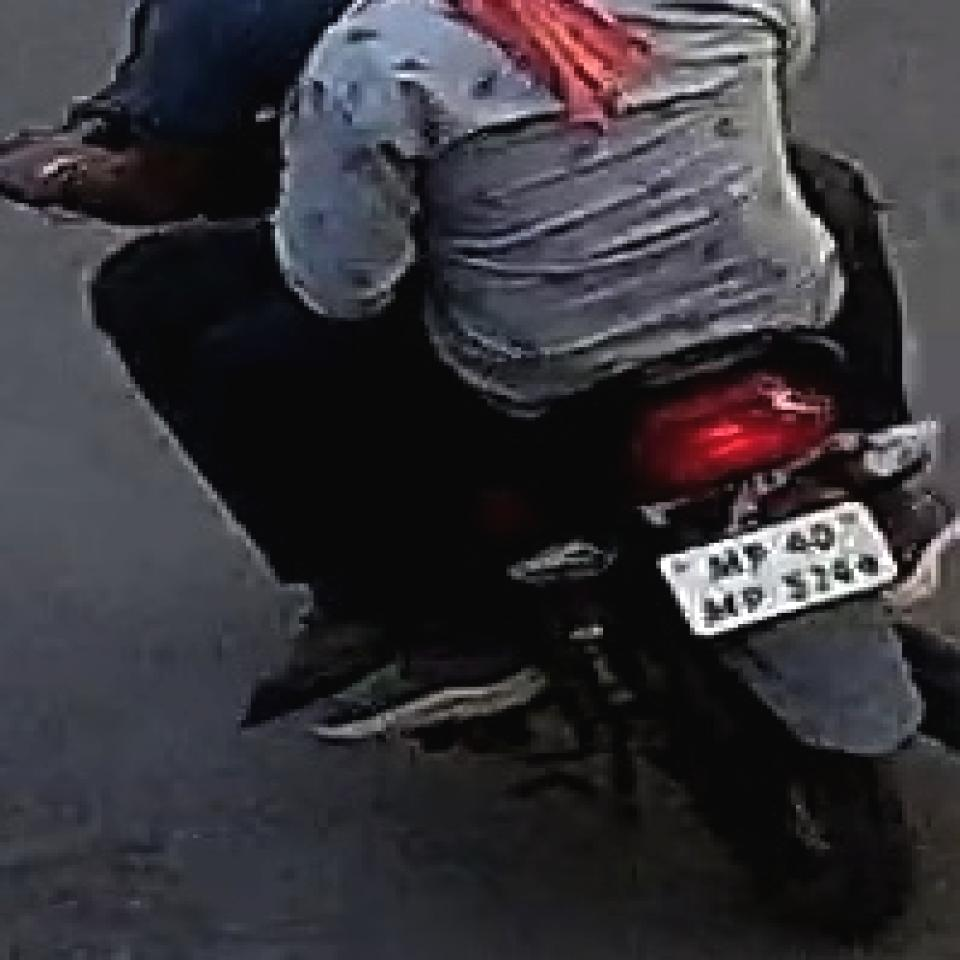tail_light: (608, 373, 839, 498)
